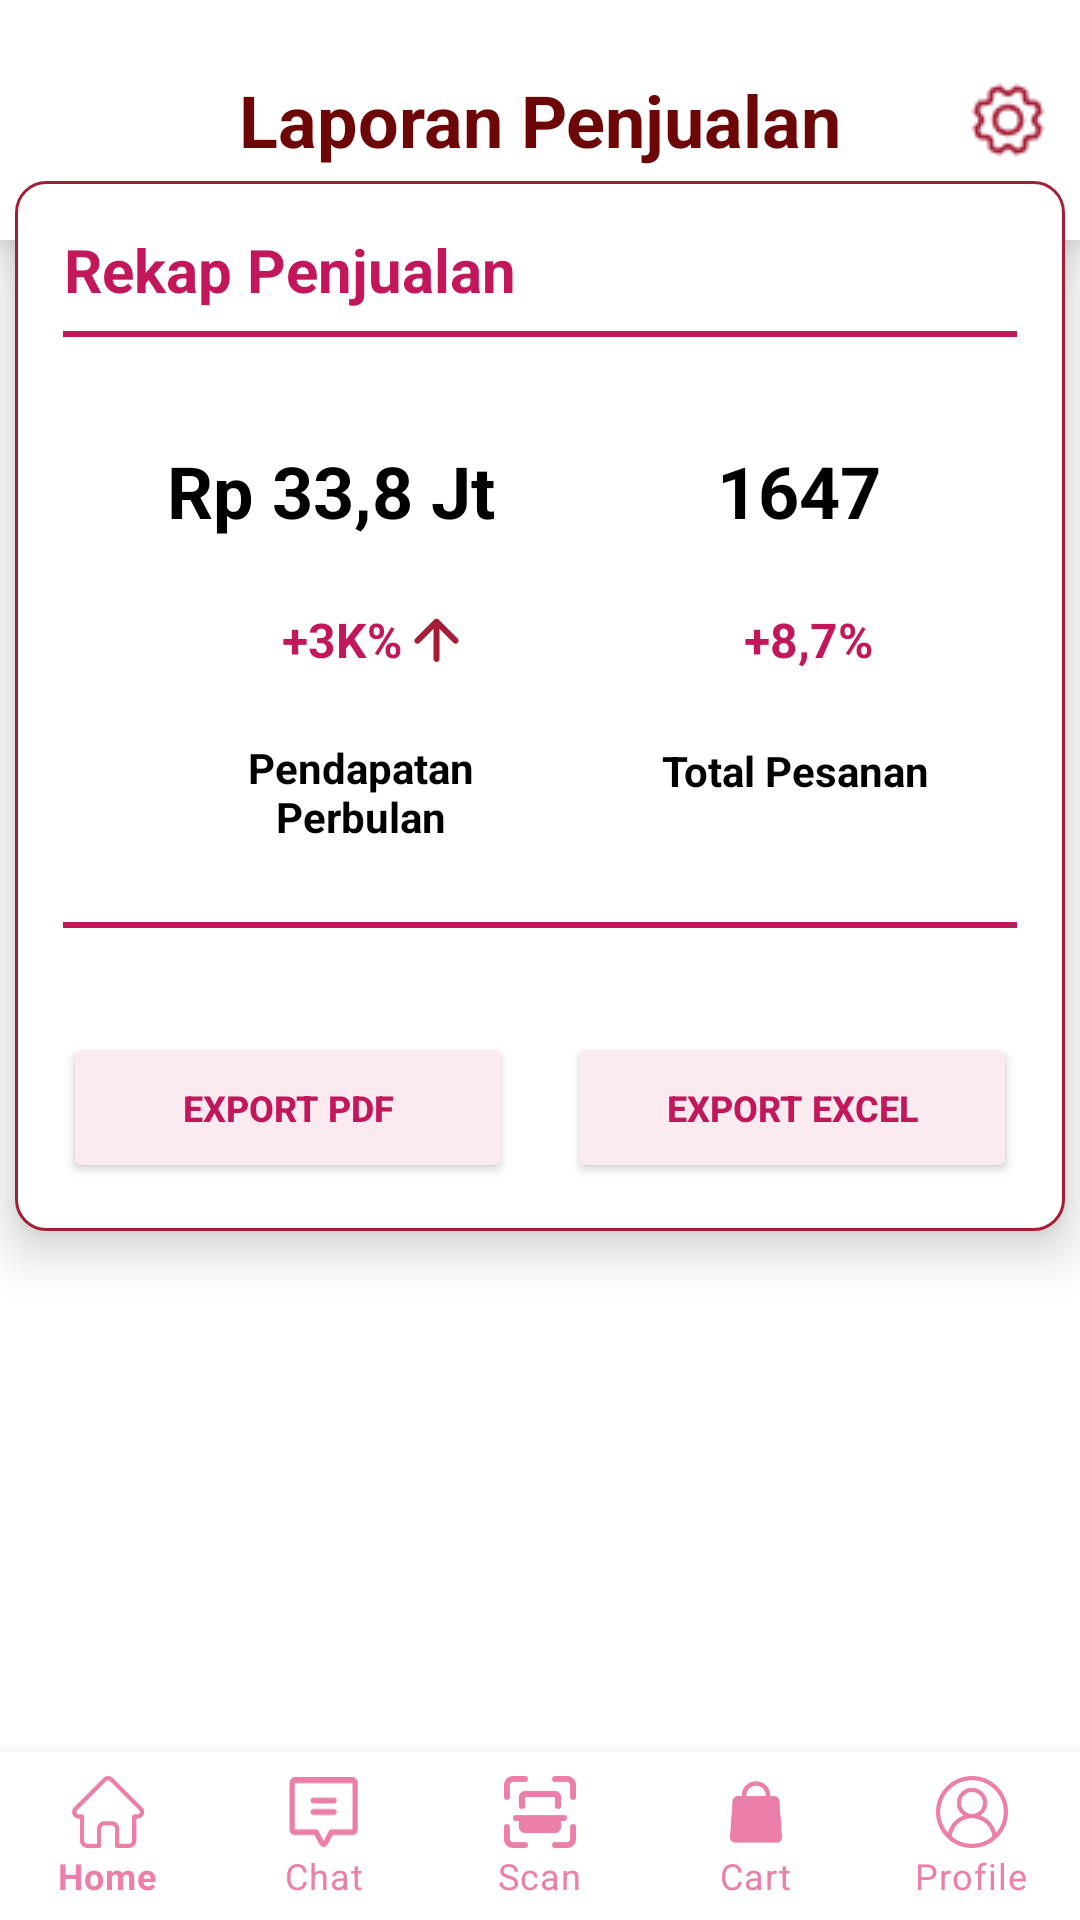

Screen size 1080 x 1920. Icon name, then its box in pixels as (x1, y1, x2, y2):
Setting: (971, 83, 1045, 157)
